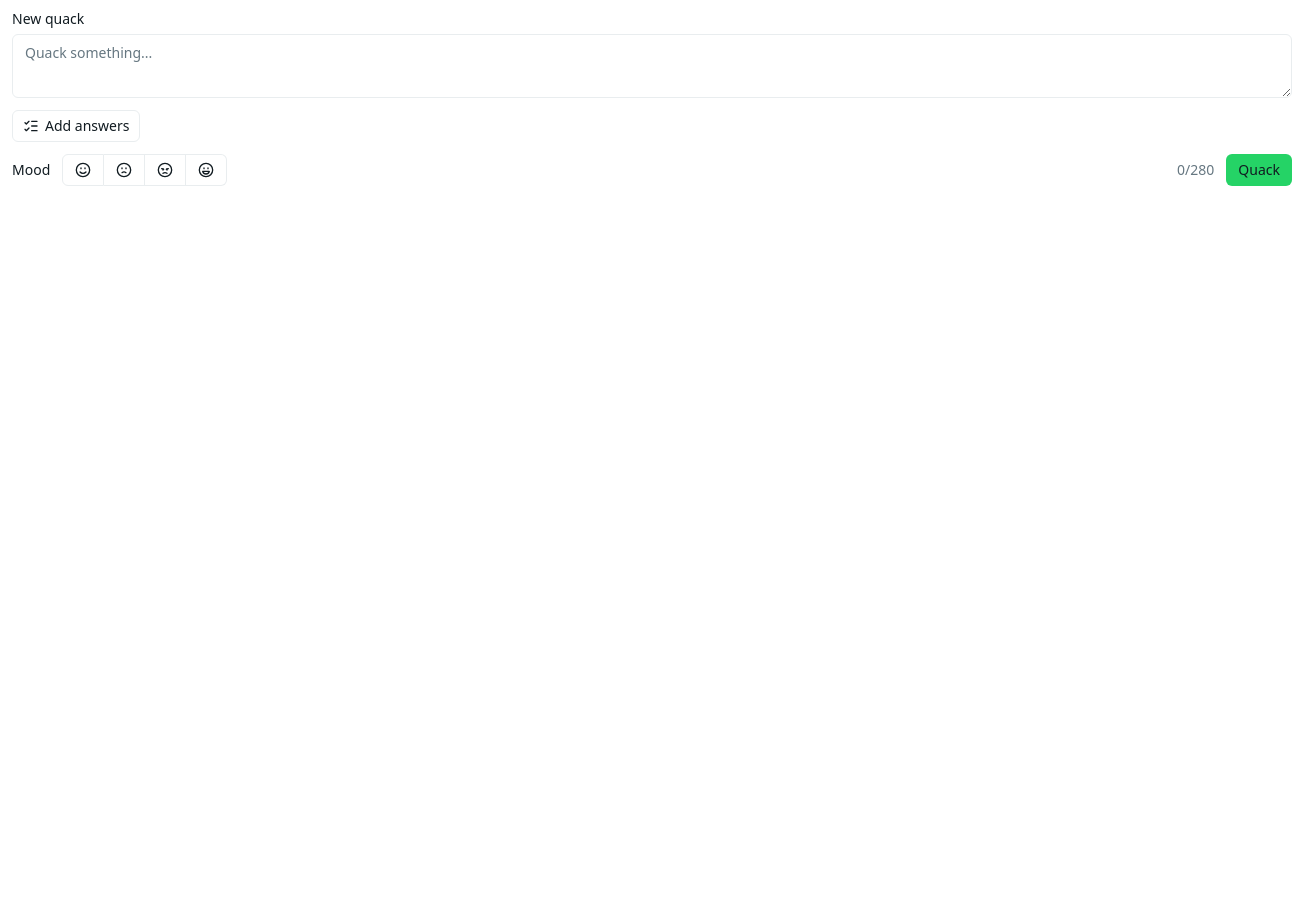
Scenario: QuackForm › asking a question › allows up to six answers
What coordinates should you click on to do the following:
click the button "Add answers"
I would click on:
 (76, 126)
Its box is [12,110,140,142].
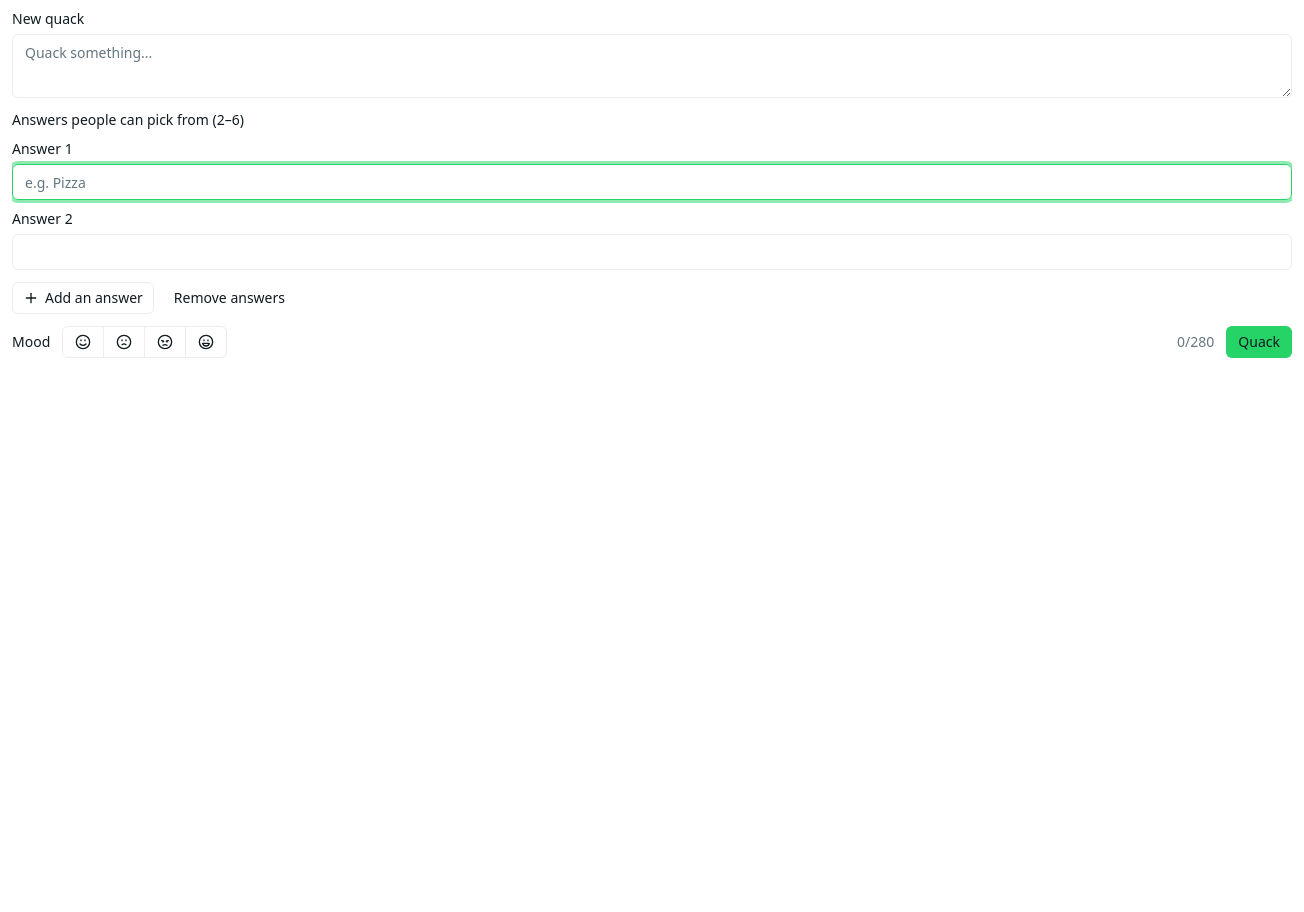
What coordinates should you click on to do the following:
click the button "Add an answer"
I would click on:
 (83, 298)
Its box is [12,282,154,314].
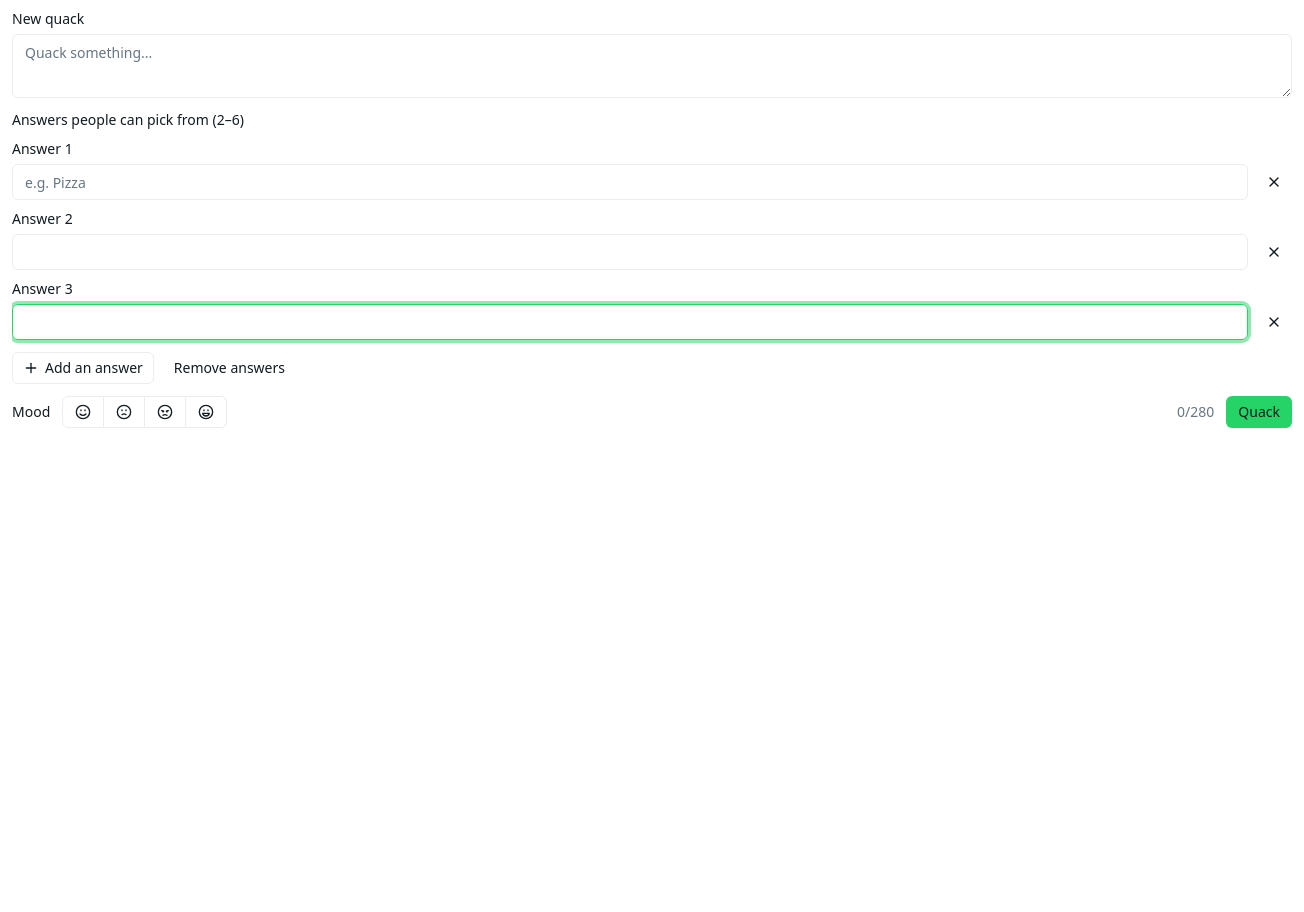
What coordinates should you click on to do the following:
click the button "Add an answer"
I would click on:
 (83, 368)
Its box is [12,352,154,384].
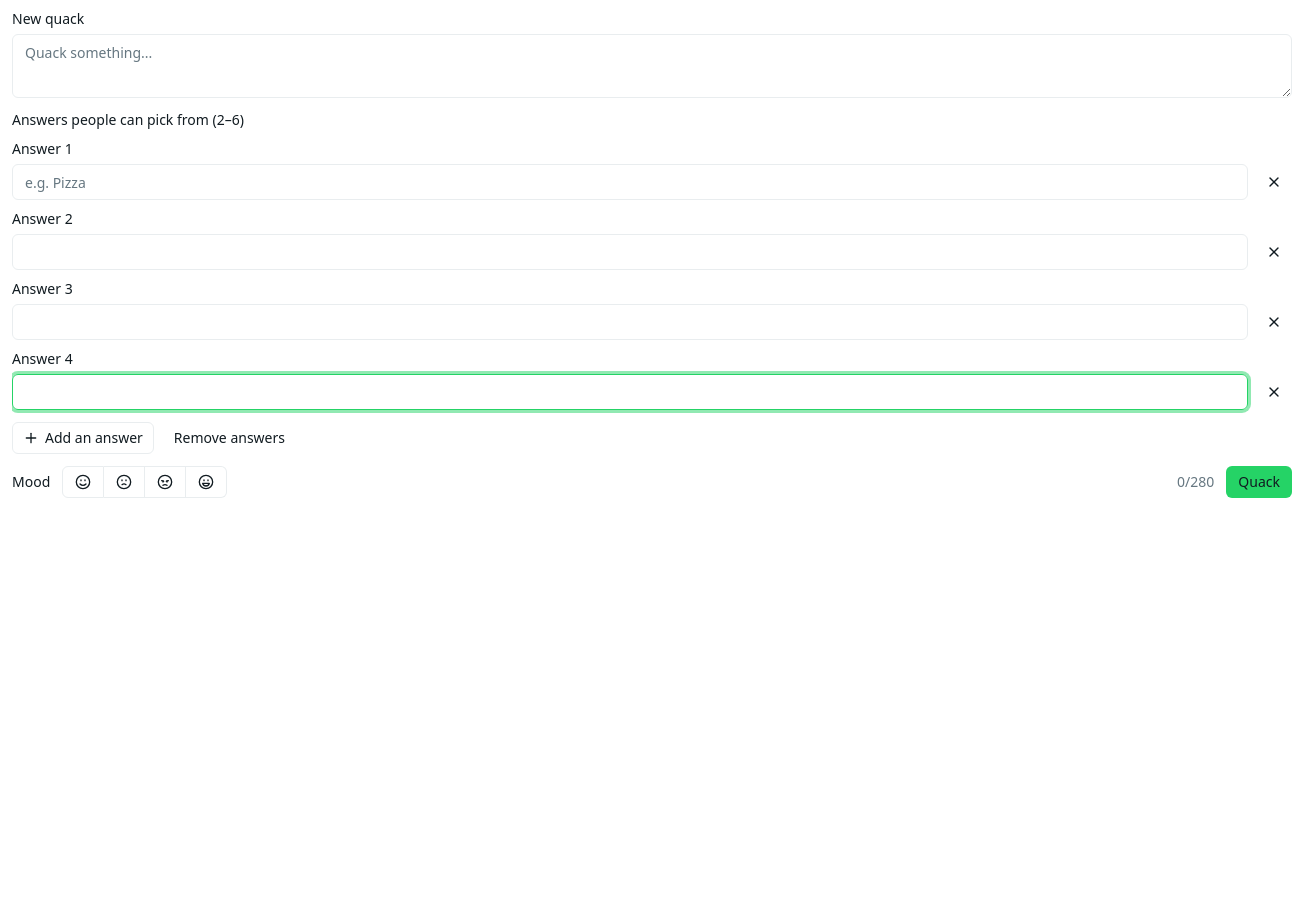
What coordinates should you click on to do the following:
click the button "Add an answer"
I would click on:
 (83, 438)
Its box is [12,422,154,454].
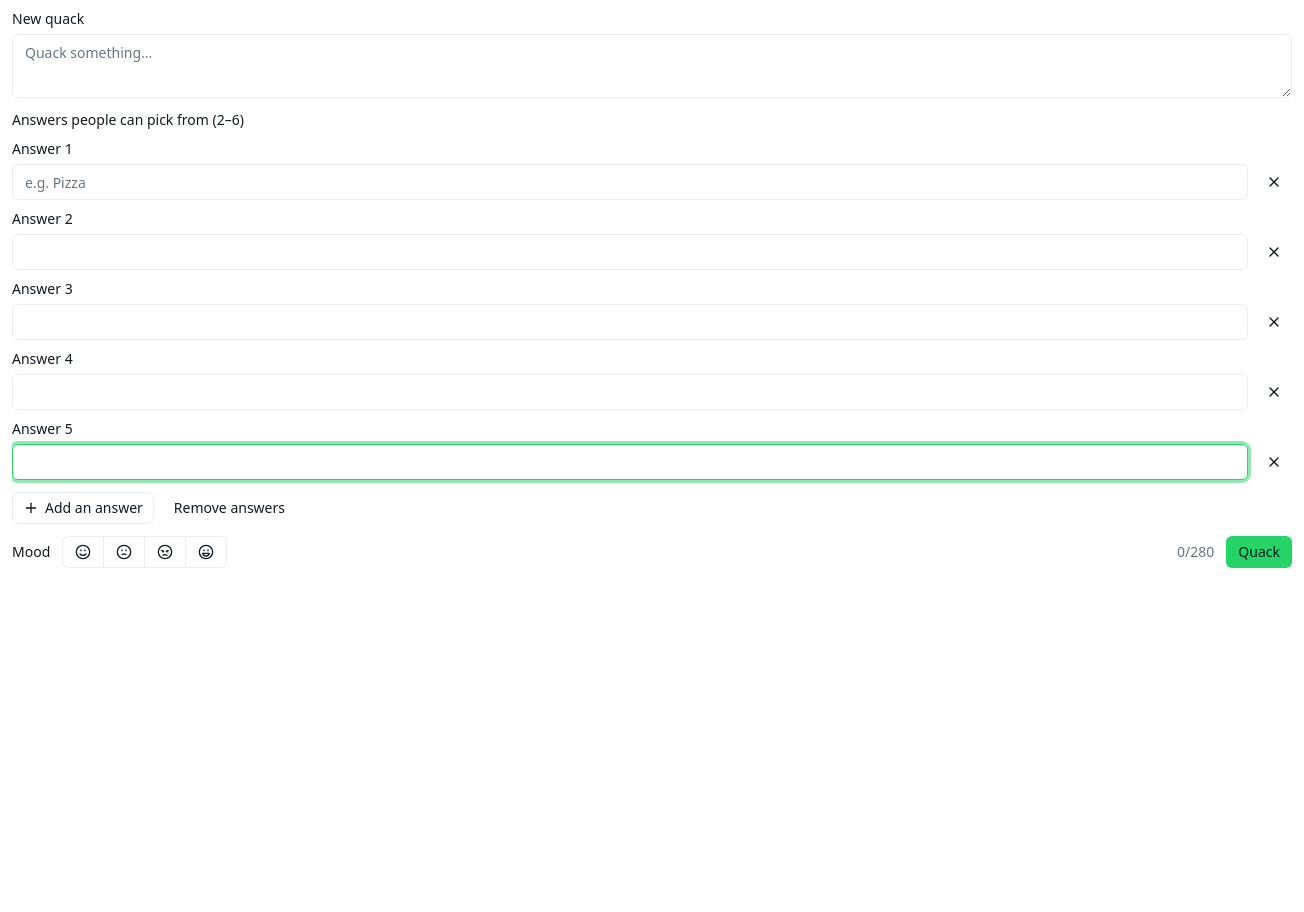
What coordinates should you click on to do the following:
click the button "Add an answer"
I would click on:
 (83, 508)
Its box is [12,492,154,524].
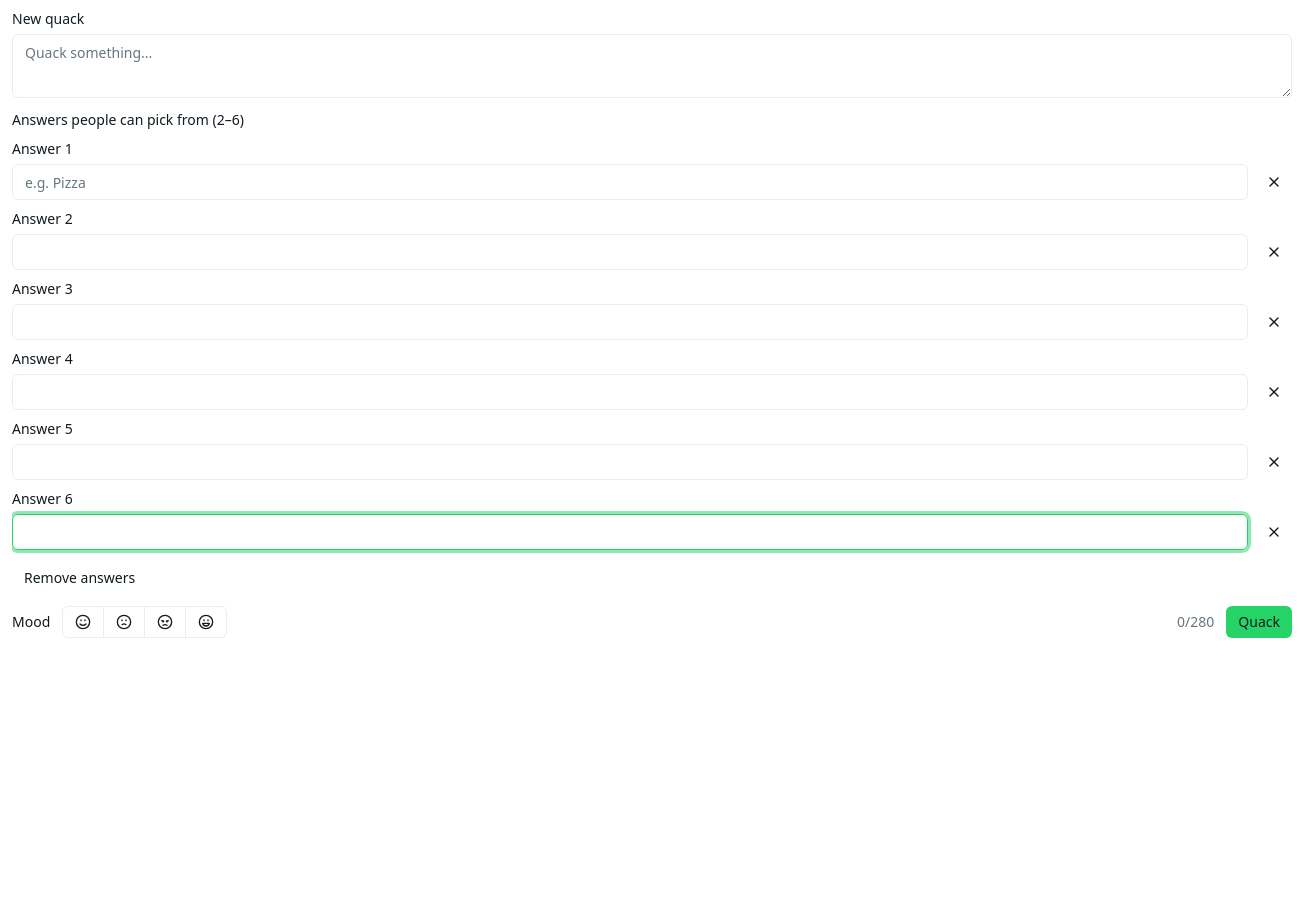
Result: the number of buttons named "Remove answer 1" is 6 at [1256,164,1292,200]; [1256,234,1292,270]; [1256,304,1292,340]; [1256,374,1292,410]; [1256,444,1292,480]; [1256,514,1292,550]
Result: the button "Add an answer" is gone
